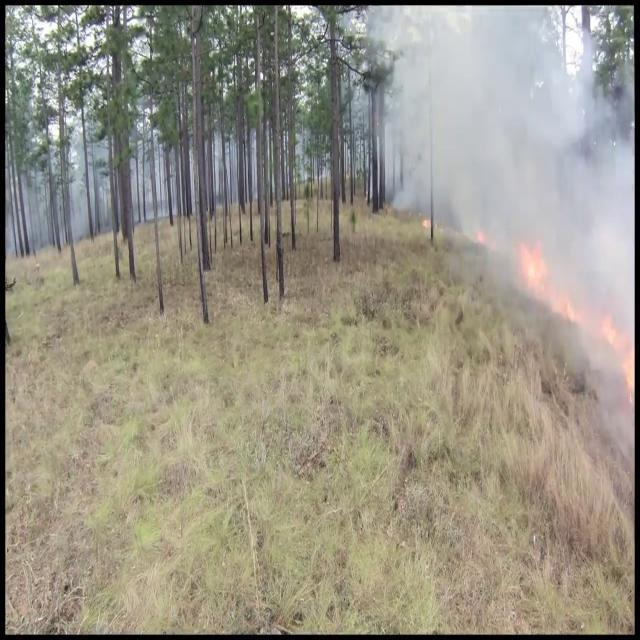Fire: (517, 232, 546, 293)
Smoke: (392, 4, 634, 420)
